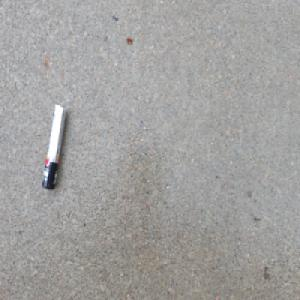Battery: (42, 102, 68, 192)
